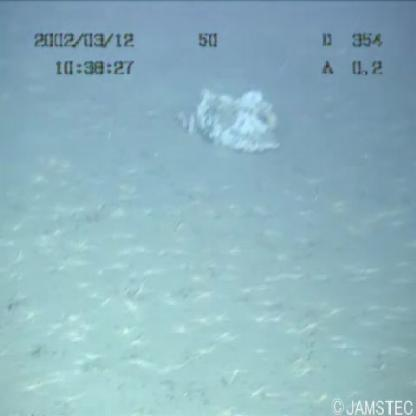Rác: (167, 74, 294, 157)
